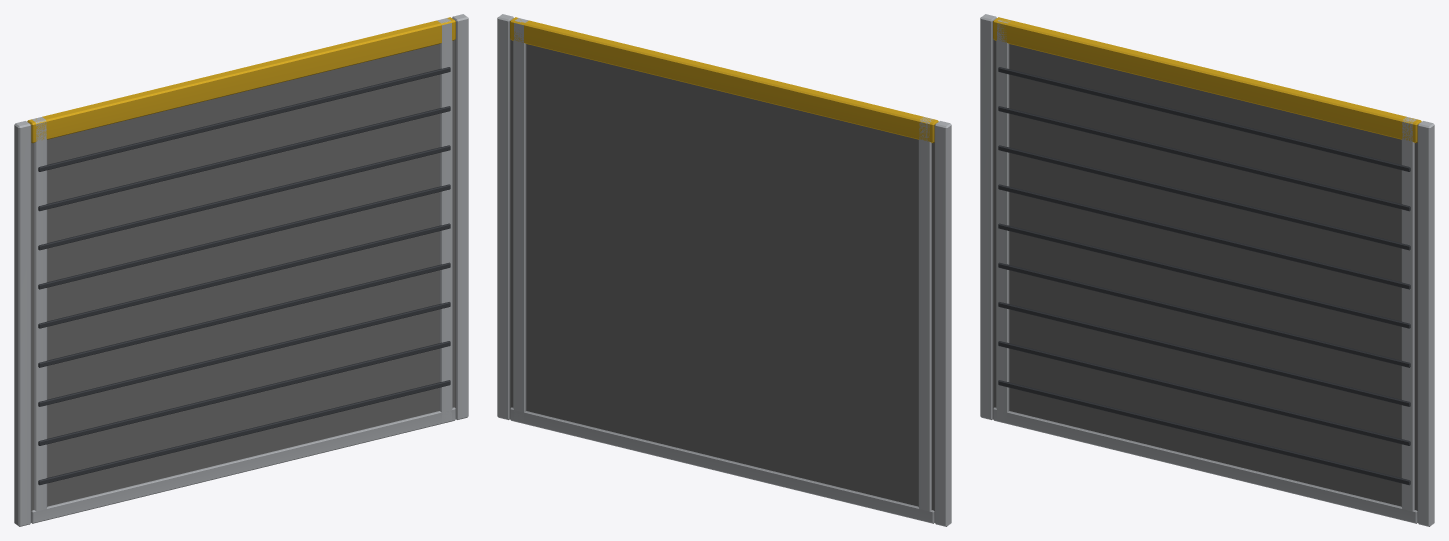
Rendered from estilo_rampa_larga.glb.
3 views of the same model, side by side, from view 1: azimuth 30°, elevation 25°; view 2: azimuth 150°, elevation 25°; view 3: azimuth 330°, elevation 25° (orthographic).
Parts seen in each view (by area): view 1: b1300x1190x30, b1400x1190x30; view 2: b1400x1190x30, b1300x1190x30; view 3: b1300x1190x30, b1400x1190x30.
Part boxes in pixels (x1,y1,x2,y2): b1300x1190x30: (32, 18, 452, 522); b1400x1190x30: (14, 14, 468, 526); b1400x1190x30: (497, 14, 951, 526); b1300x1190x30: (513, 18, 933, 522); b1300x1190x30: (996, 20, 1416, 522); b1400x1190x30: (980, 14, 1434, 526).
Size of the model in its own units: 1.4 by 1.19 by 0.035.
